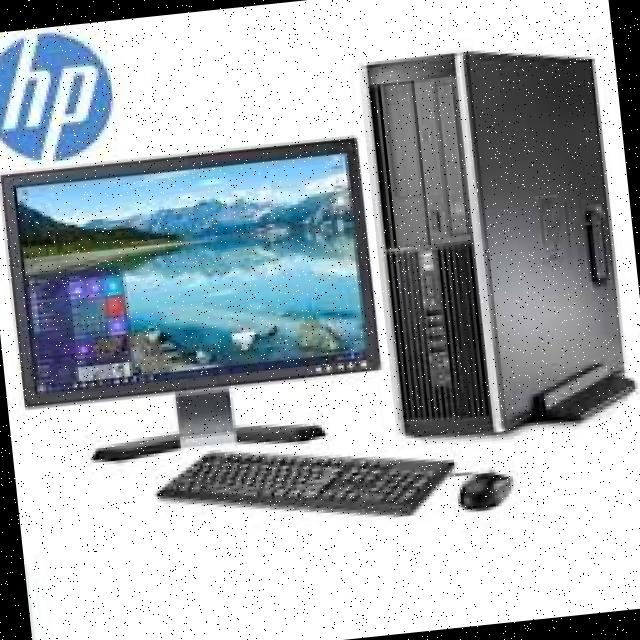Computer: (353, 24, 640, 451)
Monitor: (0, 120, 393, 429)
